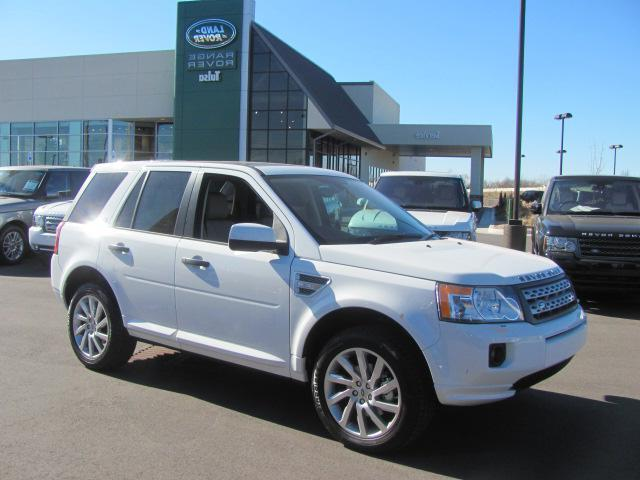Car: (47, 143, 597, 431), (334, 154, 492, 288), (522, 164, 640, 309)
